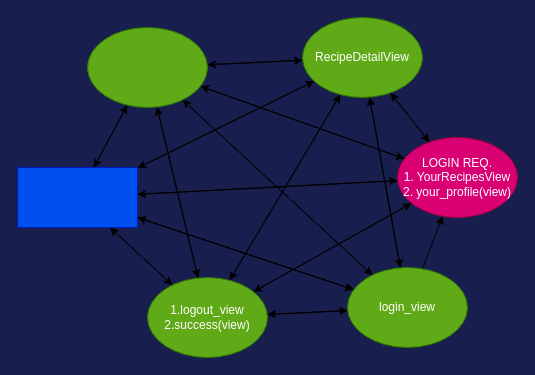
Image size: 535x375. Some labels were removed from this diagram. The centre of each missing label's shape, as x and y in pixels:
"1.RecipeSearchView 2.register_user(view)" belongs at point 147,67.
"RecipeHome(view) -Welcome page if not logged in." belongs at point 77,197.
